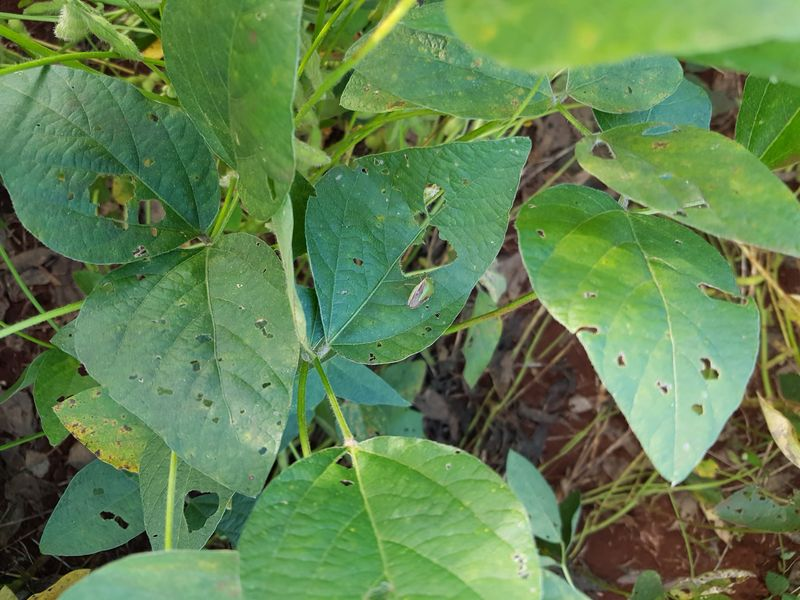Edessa_meditabunda: (403, 270, 439, 313)
